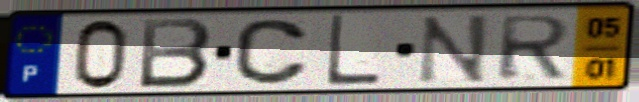0: (71, 17, 132, 91)
B: (136, 16, 216, 91)
C: (231, 17, 313, 87)
L: (322, 13, 384, 89)
N: (413, 12, 493, 86)
R: (494, 13, 575, 83)
